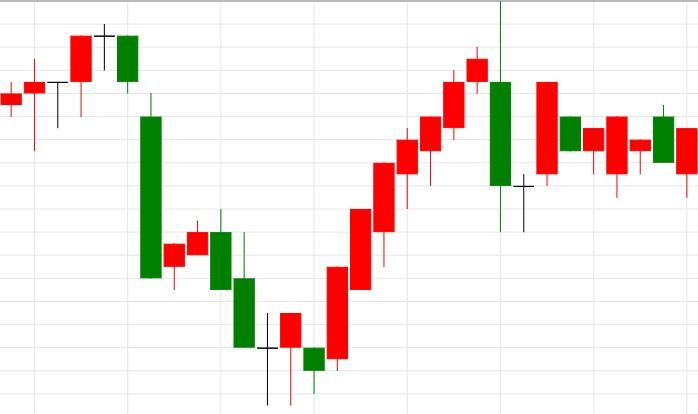evening_star_fall: (0, 23, 139, 152)
morning_star_rise: (186, 208, 303, 406)
